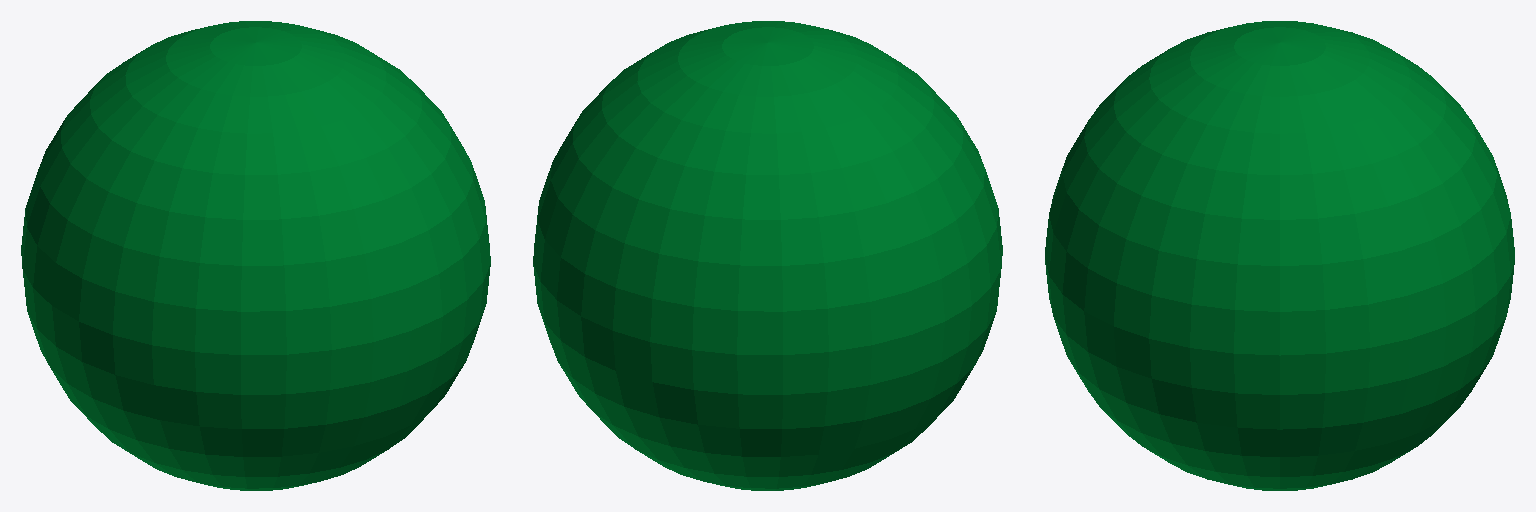
The model's file is ball.obj.
3 renders of one model, left to right at view 1: azimuth 30°, elevation 25°; view 2: azimuth 150°, elevation 25°; view 3: azimuth 270°, elevation 25°, orthographic.
Parts seen in each view (by area): view 1: Sphere01; view 2: Sphere01; view 3: Sphere01.
Boxes of the visible parts, box(x1,y1,x2,y2) form: Sphere01: box(21, 21, 490, 490); Sphere01: box(533, 21, 1002, 490); Sphere01: box(1045, 21, 1514, 490).
Size of the model in its own units: 48.16 by 48.16 by 48.16.